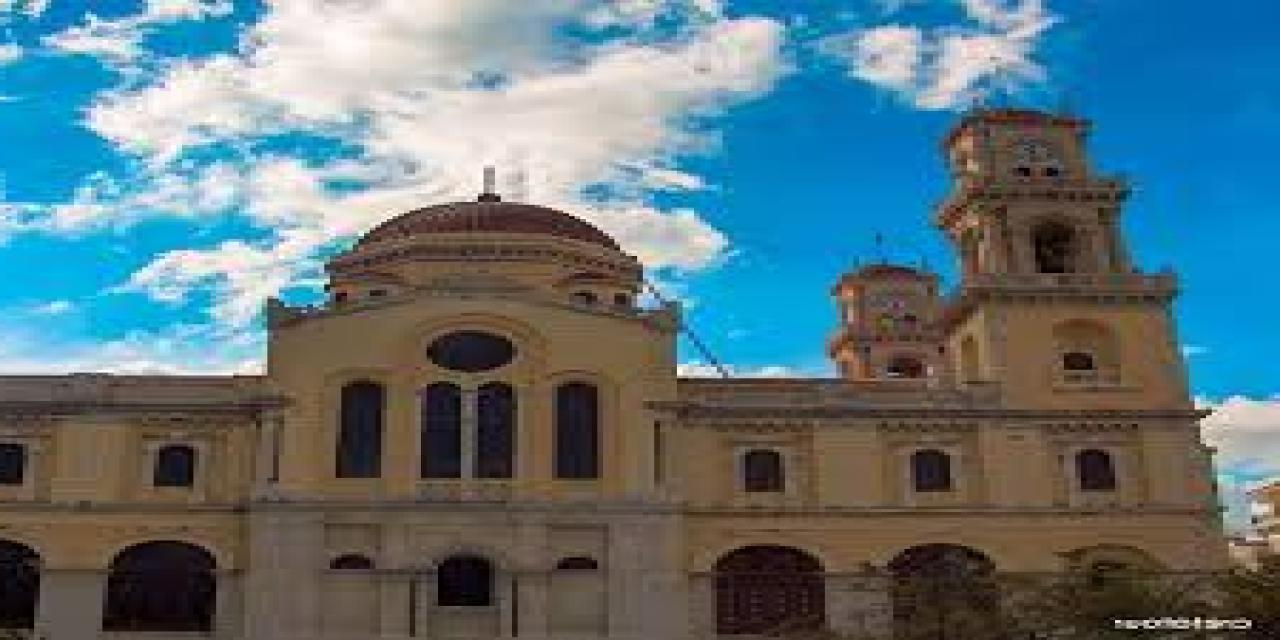Agios Minas: (1, 66, 1246, 640)
